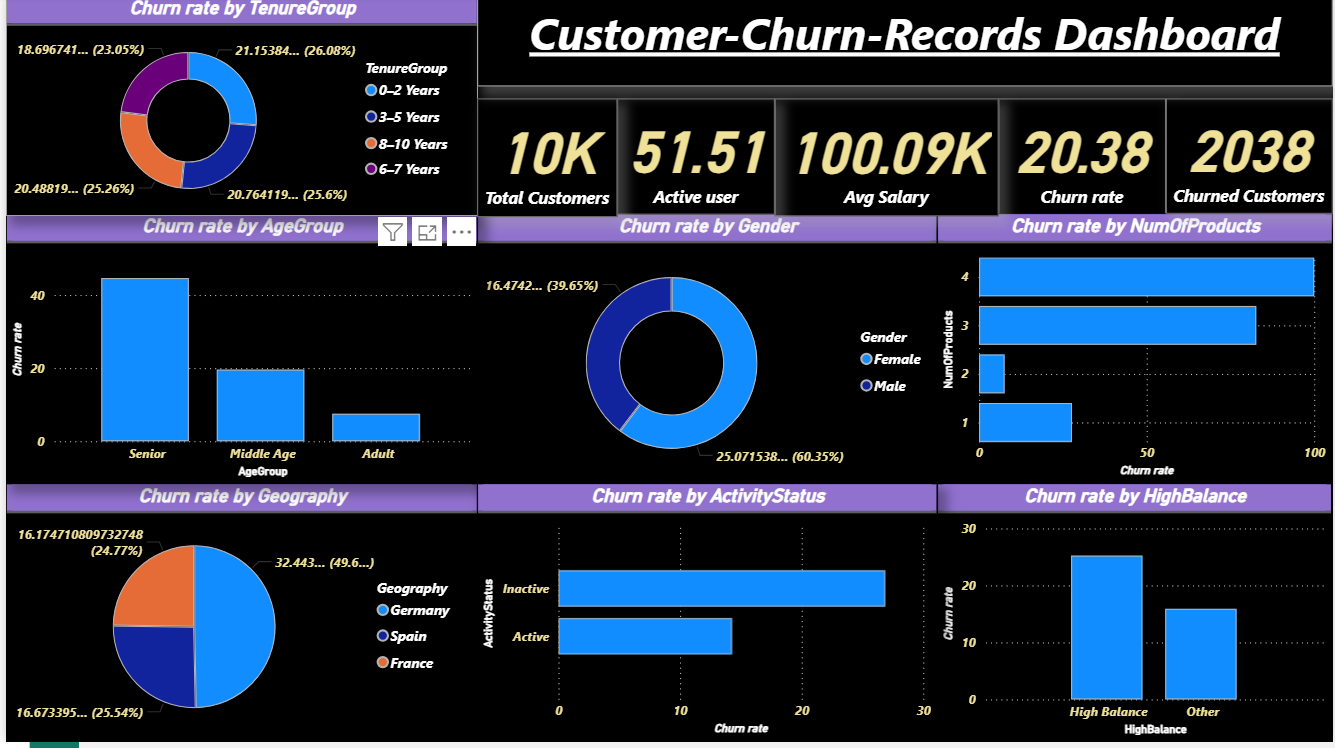

The page's visual inventory and layout, read from the dashboard file:
{"tool":"powerbi","page":{"name":"Page 1","canvas":[1280,720],"ordinal":0},"visuals":[{"type":"card","fields":{"Values":["Customer-Churn-Records.Churn rate"]},"box":[957.9,98.9,161.7,112.2],"z":0},{"type":"pieChart","fields":{"Category":["Customer-Churn-Records.Geography"],"Y":["Customer-Churn-Records.Churn rate"]},"box":[0,470.4,455,248.5],"z":1000},{"type":"donutChart","fields":{"Category":["Customer-Churn-Records.Gender"],"Y":["Customer-Churn-Records.Churn rate"]},"box":[454.8,209.9,444,260.6],"z":2000},{"type":"clusteredBarChart","fields":{"Category":["Customer-Churn-Records.NumOfProducts"],"Y":["Customer-Churn-Records.Churn rate"]},"box":[898.8,209.9,381.2,260.6],"z":3000},{"type":"columnChart","fields":{"Category":["Customer-Churn-Records.AgeGroup"],"Y":["Customer-Churn-Records.Churn rate"]},"box":[0,209.4,455,261],"z":4000},{"type":"donutChart","fields":{"Category":["Customer-Churn-Records.TenureGroup"],"Y":["Customer-Churn-Records.Churn rate"]},"box":[0,0,454.8,212.3],"z":5000},{"type":"columnChart","fields":{"Category":["Customer-Churn-Records.HighBalance"],"Y":["Customer-Churn-Records.Churn rate"]},"box":[898.8,470.3,380.9,249.6],"z":6000},{"type":"clusteredBarChart","fields":{"Category":["Customer-Churn-Records.ActivityStatus"],"Y":["Customer-Churn-Records.Churn rate"]},"box":[455,470.4,443.9,248.5],"z":7000},{"type":"card","fields":{"Values":["Customer-Churn-Records.Avg Salary"]},"box":[742,98.9,216,113.4],"z":8000},{"type":"card","fields":{"Values":["Customer-Churn-Records.Active user"]},"box":[589.9,98.9,152,112.2],"z":9000},{"type":"card","fields":{"Values":["Customer-Churn-Records.Total Customers"]},"box":[454.8,98.9,135.1,114.6],"z":10000},{"type":"card","fields":{"Values":["Customer-Churn-Records.Churned Customers"]},"box":[1119.6,98.9,160.5,111],"z":11000},{"type":"textbox","box":[454.8,0,825.2,86.9],"z":12000}]}

Visuals, with their boxes in screenshot pixels (x1, y1, x2, y2), scaled from the page's 1280x720 canvas onto the 1335x748 screenshot:
card - Customer-Churn-Records.Churn rate: detection(999, 103, 1168, 219)
pieChart - Customer-Churn-Records.Geography x Customer-Churn-Records.Churn rate: detection(0, 489, 475, 747)
donutChart - Customer-Churn-Records.Gender x Customer-Churn-Records.Churn rate: detection(474, 218, 937, 489)
clusteredBarChart - Customer-Churn-Records.NumOfProducts x Customer-Churn-Records.Churn rate: detection(937, 218, 1334, 489)
columnChart - Customer-Churn-Records.AgeGroup x Customer-Churn-Records.Churn rate: detection(0, 218, 475, 489)
donutChart - Customer-Churn-Records.TenureGroup x Customer-Churn-Records.Churn rate: detection(0, 0, 474, 221)
columnChart - Customer-Churn-Records.HighBalance x Customer-Churn-Records.Churn rate: detection(937, 489, 1334, 747)
clusteredBarChart - Customer-Churn-Records.ActivityStatus x Customer-Churn-Records.Churn rate: detection(475, 489, 938, 747)
card - Customer-Churn-Records.Avg Salary: detection(774, 103, 999, 221)
card - Customer-Churn-Records.Active user: detection(615, 103, 774, 219)
card - Customer-Churn-Records.Total Customers: detection(474, 103, 615, 222)
card - Customer-Churn-Records.Churned Customers: detection(1168, 103, 1334, 218)
textbox: detection(474, 0, 1334, 90)
